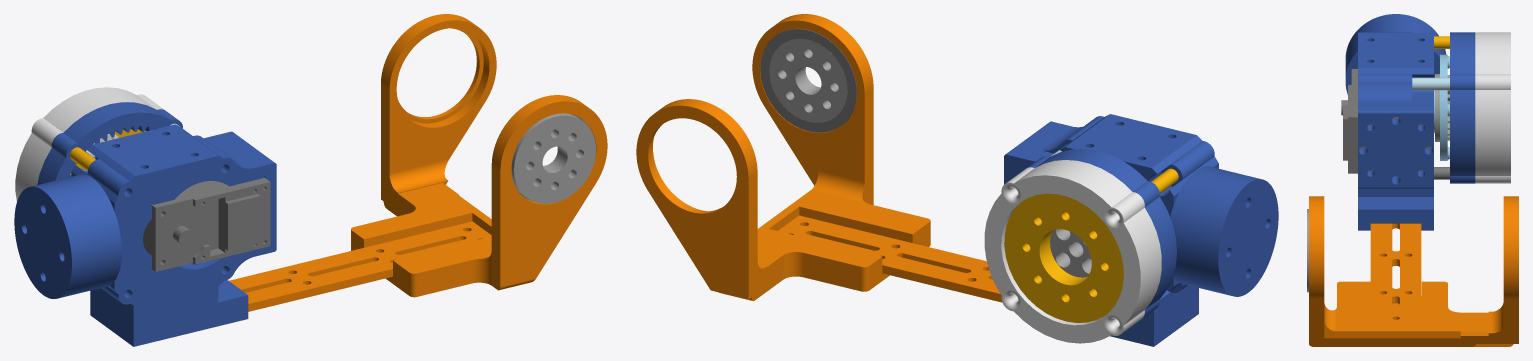
File: ForeArmLink1.dae
3 renders of one model, left to right at view 1: azimuth 30°, elevation 25°; view 2: azimuth 150°, elevation 25°; view 3: azimuth 270°, elevation 25°, orthographic. The views are drawn at different scales.
Visible parts, largest first — view 1: generic_base_sts3215 v1, wrist_bearing_mount v7(Mirror), STS3215_original v1, ring_gear v1 (×2), 150x20mm_general v1_1, forearm_pitch_input_shaft_back v2_1; view 2: wrist_bearing_mount v7(Mirror), generic_base_sts3215 v1, ring_gear v1 (×2), satellite_top v1, 150x20mm_general v1_1, forearm_pitch_input_shaft_back v2_1, 6708 bearing v1, bearing6706-30x37x4 v1_8, Spur Gear (24 teeth); view 3: generic_base_sts3215 v1, wrist_bearing_mount v7(Mirror), ring_gear v1 (×2), 150x20mm_general v1_1, STS3215_original v1, satellite_base v1, spacer_5xm3x15 v1, Spur Gear (24 teeth), spacer_5xm3x15 v1_2, spacer_5xm3x15 v1_3.
Boxes of the visible parts, left/top/right/bottom form: generic_base_sts3215 v1: left=14, top=124, right=276, bottom=346; wrist_bearing_mount v7(Mirror): left=351, top=14, right=607, bottom=297; STS3215_original v1: left=143, top=177, right=270, bottom=271; ring_gear v1 (×2): left=15, top=87, right=182, bottom=201; 150x20mm_general v1_1: left=229, top=221, right=491, bottom=311; forearm_pitch_input_shaft_back v2_1: left=511, top=113, right=595, bottom=203; wrist_bearing_mount v7(Mirror): left=636, top=14, right=930, bottom=301; generic_base_sts3215 v1: left=1004, top=114, right=1278, bottom=346; ring_gear v1 (×2): left=984, top=149, right=1176, bottom=343; satellite_top v1: left=1013, top=201, right=1117, bottom=313; 150x20mm_general v1_1: left=778, top=215, right=1002, bottom=302; forearm_pitch_input_shaft_back v2_1: left=769, top=39, right=847, bottom=122; 6708 bearing v1: left=1004, top=193, right=1123, bottom=322; bearing6706-30x37x4 v1_8: left=760, top=28, right=856, bottom=132; Spur Gear (24 teeth): left=1050, top=229, right=1091, bottom=277; generic_base_sts3215 v1: left=1345, top=14, right=1446, bottom=230; wrist_bearing_mount v7(Mirror): left=1309, top=196, right=1518, bottom=346; ring_gear v1 (×2): left=1450, top=32, right=1510, bottom=183; 150x20mm_general v1_1: left=1370, top=223, right=1421, bottom=327; STS3215_original v1: left=1341, top=69, right=1431, bottom=173; satellite_base v1: left=1440, top=54, right=1449, bottom=160; spacer_5xm3x15 v1: left=1412, top=77, right=1449, bottom=90; Spur Gear (24 teeth): left=1435, top=74, right=1449, bottom=141; spacer_5xm3x15 v1_2: left=1434, top=167, right=1449, bottom=179; spacer_5xm3x15 v1_3: left=1434, top=36, right=1449, bottom=48.
Size of the model in its own units: 0.2065 by 0.0838 by 0.0731.
